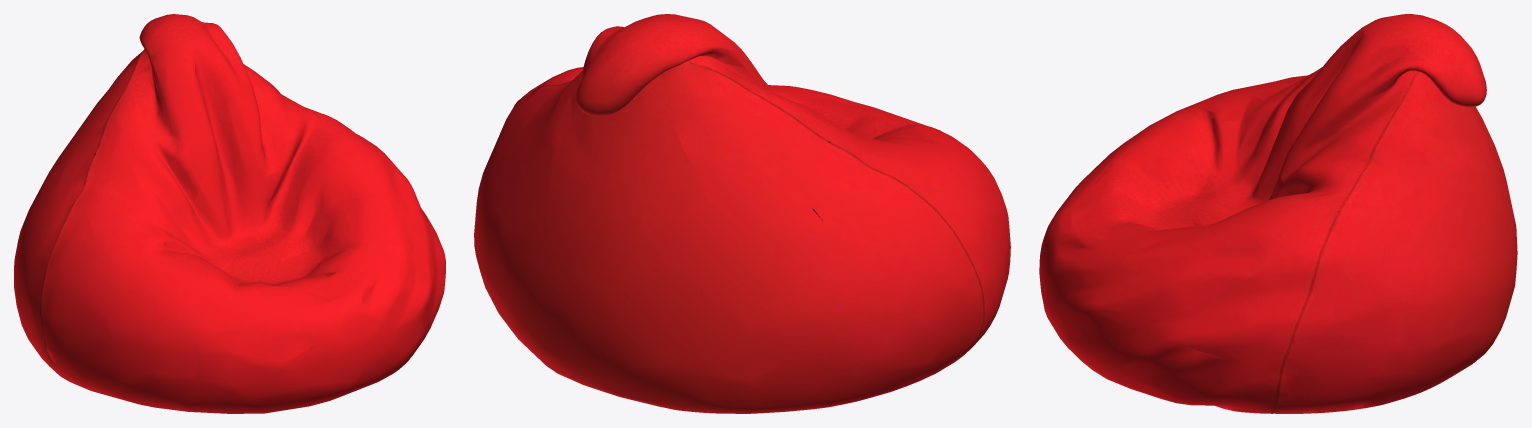
The model's file is beanbag.glb.
3 renders of one model, left to right at view 1: azimuth 30°, elevation 25°; view 2: azimuth 150°, elevation 25°; view 3: azimuth 270°, elevation 25°, orthographic. The views are drawn at different scales.
Visible parts, largest first — view 1: beanbag; view 2: beanbag; view 3: beanbag.
Part boxes in pixels (box(x1,y1,x2,y2)): beanbag: box(14, 14, 445, 413); beanbag: box(474, 14, 1010, 413); beanbag: box(1039, 14, 1517, 413).
Size of the model in its own units: 0.6637 by 0.4616 by 0.6438.
Materials: 1 (1 with a texture image).
